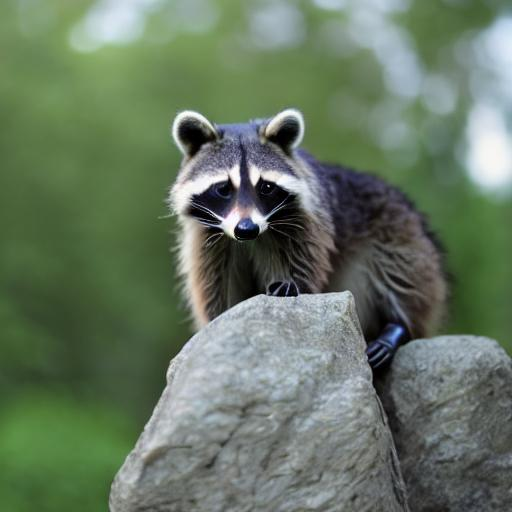raccoon: (151, 99, 462, 332)
